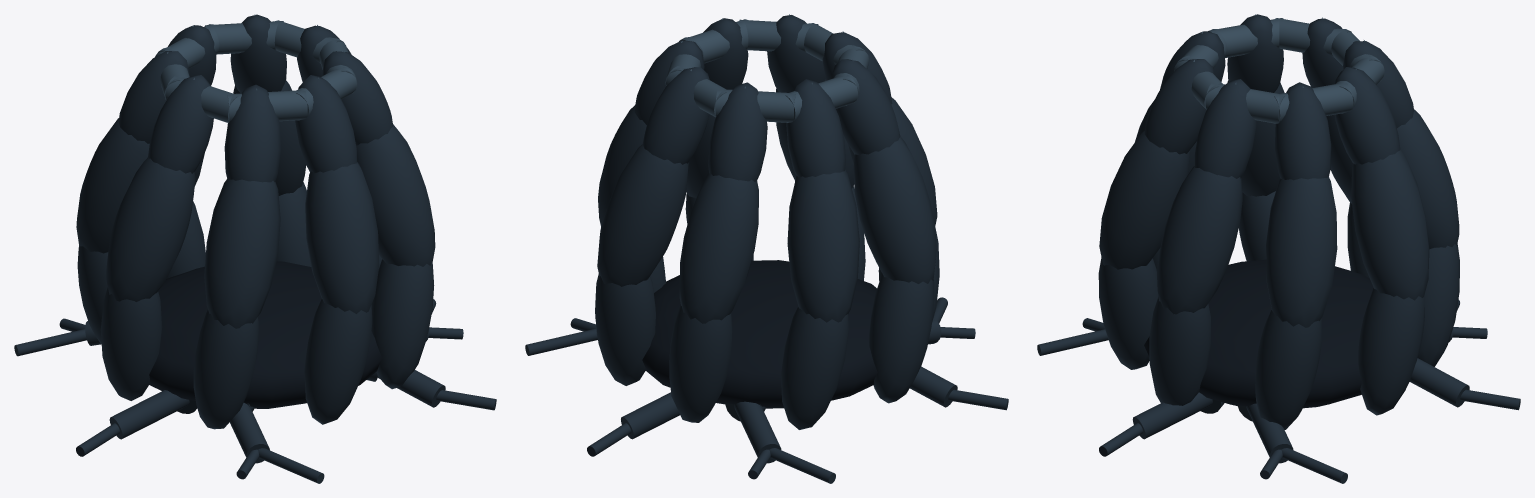
File: CMU3DHiveHiveEggMorpherXeno.glb
The picture shows the model from 3 angles, left to right: view 1: azimuth 30°, elevation 25°; view 2: azimuth 150°, elevation 25°; view 3: azimuth 270°, elevation 25°; orthographic projection.
Visible parts, largest first — view 1: fluted egg cradle (×21), morpher basin floor, rolled organic lip (×8), sinuous anchoring root (×7); view 2: fluted egg cradle (×20), morpher basin floor, rolled organic lip (×7), sinuous anchoring root (×7); view 3: fluted egg cradle (×22), morpher basin floor, rolled organic lip (×8), sinuous anchoring root (×7).
Part boxes in pixels (x1,y1,x2,y2): fluted egg cradle (×21): [76, 14, 435, 429]; morpher basin floor: [149, 261, 382, 408]; rolled organic lip (×8): [155, 20, 357, 122]; sinuous anchoring root (×7): [14, 329, 496, 483]; fluted egg cradle (×20): [595, 15, 937, 429]; morpher basin floor: [642, 260, 877, 408]; rolled organic lip (×7): [666, 19, 869, 123]; sinuous anchoring root (×7): [525, 328, 1008, 483]; fluted egg cradle (×22): [1098, 14, 1459, 429]; morpher basin floor: [1144, 259, 1373, 408]; rolled organic lip (×8): [1174, 18, 1384, 123]; sinuous anchoring root (×7): [1037, 329, 1520, 483].
Size of the model in its own units: 1.01 by 0.7619 by 0.9995.
